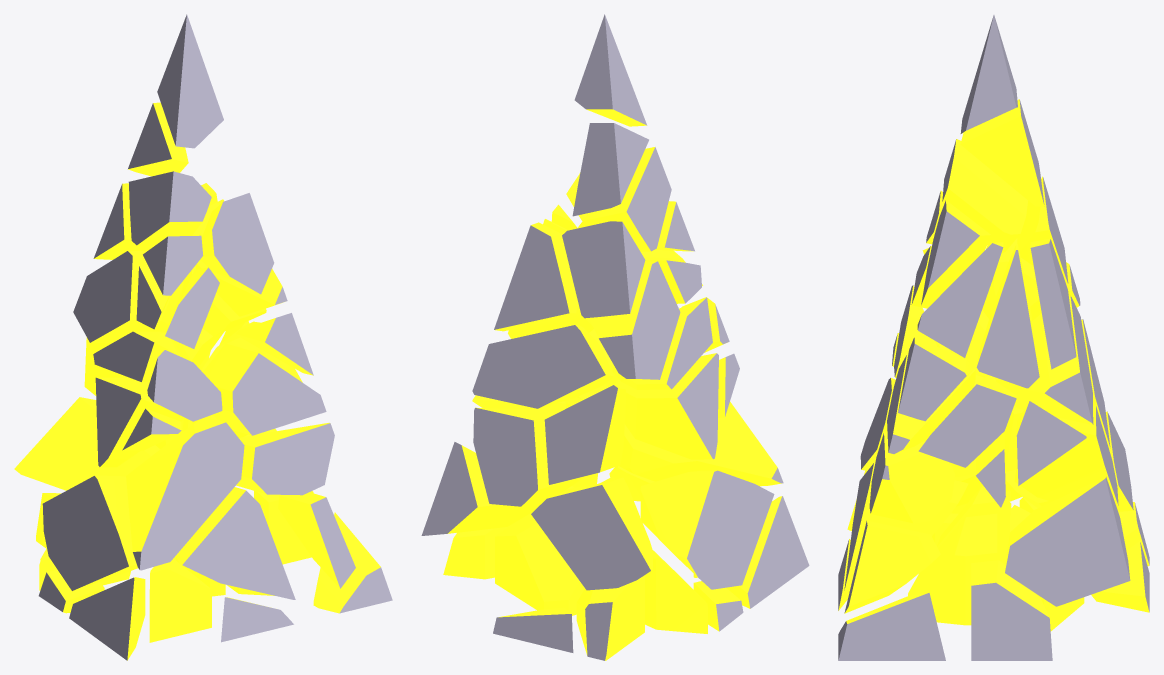
Rendered from BossAttack3.fbx.
The picture shows the model from 3 angles, left to right: view 1: azimuth 30°, elevation 25°; view 2: azimuth 150°, elevation 25°; view 3: azimuth 270°, elevation 25°; orthographic projection. The views are drawn at different scales.
Parts seen in each view (by area): view 1: BossAttack3; view 2: BossAttack3; view 3: BossAttack3.
Part boxes in pixels (x1,y1,x2,y2): BossAttack3: [14, 14, 392, 660]; BossAttack3: [421, 14, 809, 660]; BossAttack3: [838, 15, 1149, 660].
Bounding box in the file's own units: 97.03 × 200 × 97.03.
